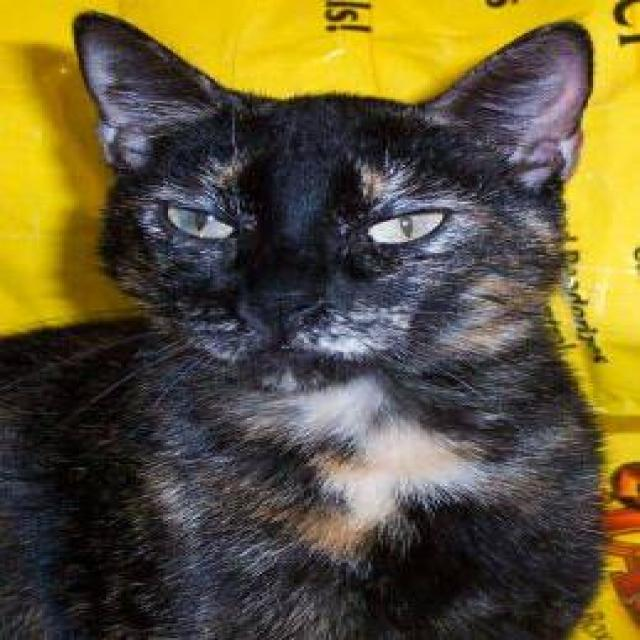cat-eye-normal: (341, 199, 479, 257), (148, 186, 246, 255)
